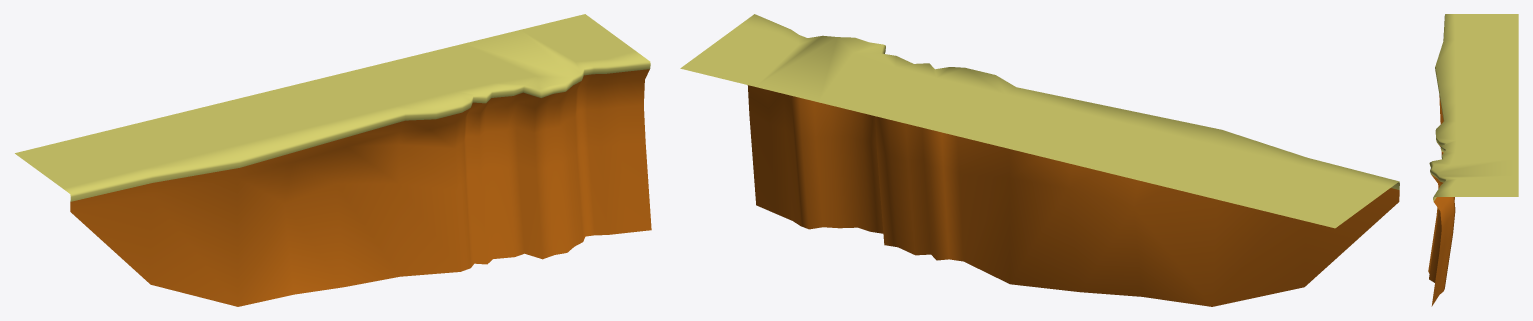
The model's file is ground_04.fbx.
3 renders of one model, left to right at view 1: azimuth 30°, elevation 25°; view 2: azimuth 150°, elevation 25°; view 3: azimuth 270°, elevation 25°, orthographic. The views are drawn at different scales.
Parts seen in each view (by area): view 1: floor_tille.005; view 2: floor_tille.005; view 3: floor_tille.005.
Boxes of the visible parts, x1,y1,x2,y2 form: floor_tille.005: (15,14,651,306); floor_tille.005: (680,14,1399,306); floor_tille.005: (1428,14,1518,306).
Size of the model in its own units: 6257 by 1756 by 1308.
